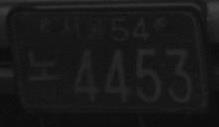3: (163, 47, 194, 104)
4: (102, 47, 133, 104), (71, 47, 101, 103), (132, 15, 152, 43)
5: (133, 47, 162, 104), (109, 15, 131, 43)
노: (25, 47, 63, 81)
서울_O: (60, 14, 106, 44)
